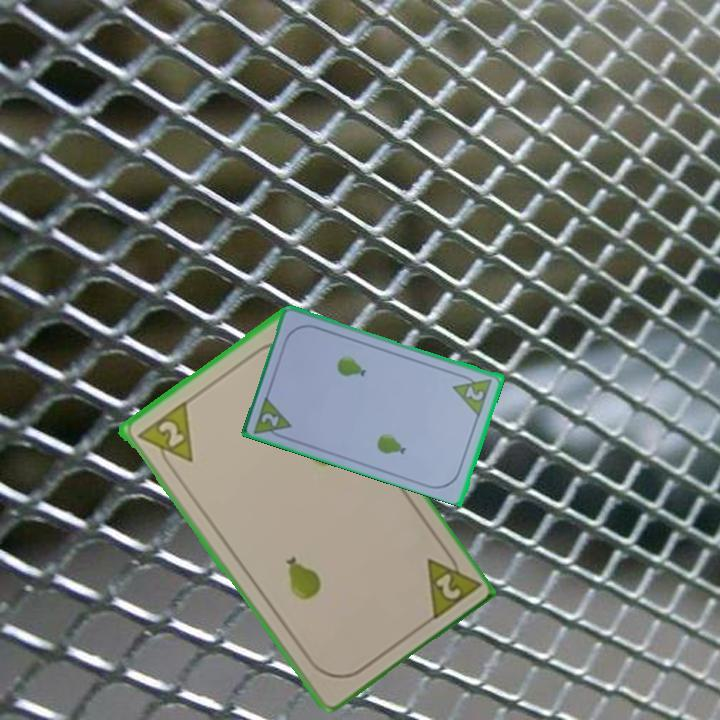2p: (133, 398, 196, 477), (422, 542, 481, 625), (258, 409, 283, 430), (462, 383, 487, 403)
